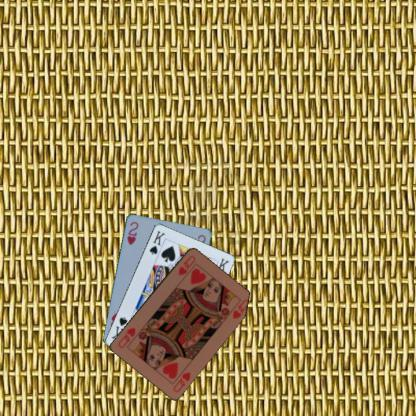2h: (124, 219, 139, 246)
Ks: (147, 228, 166, 256)
Qh: (170, 369, 192, 394), (176, 253, 197, 276)
